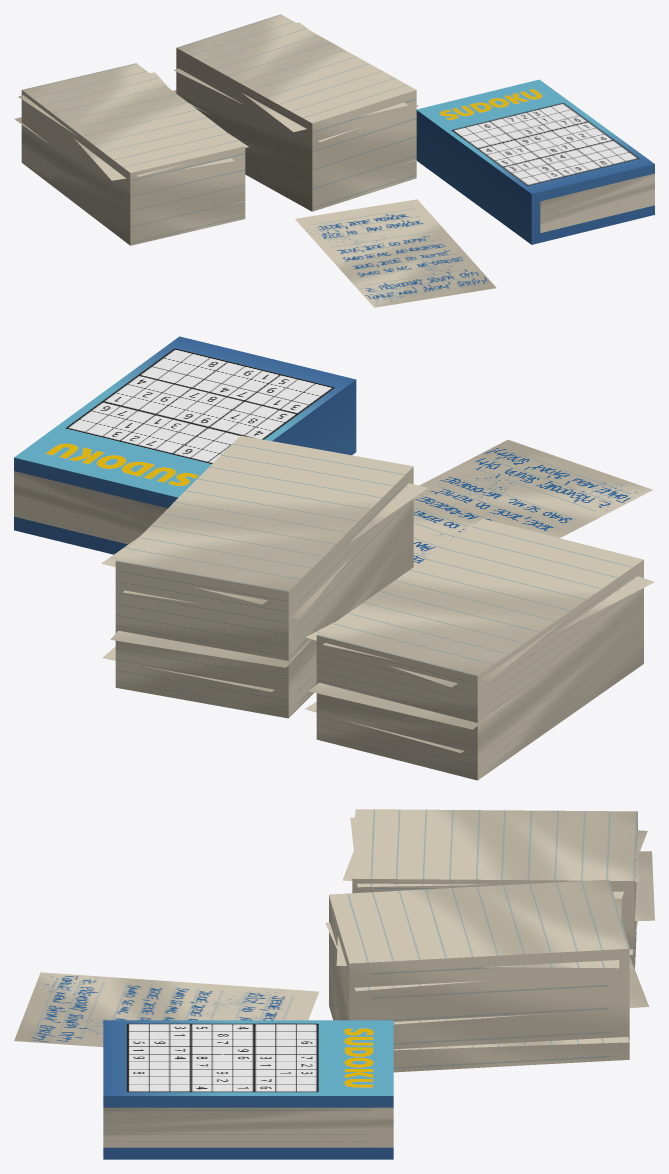
The model's file is Paper_Stack.obj.
3 views of the same model, one above another, from view 1: azimuth 30°, elevation 25°; view 2: azimuth 150°, elevation 25°; view 3: azimuth 270°, elevation 25° (orthographic). The views are drawn at different scales.
Visible parts, largest first — view 1: Cube.006; view 2: Cube.006; view 3: Cube.006.
Part boxes in pixels (x1=…): Cube.006: x1=14, y1=14, x2=654, y2=307; Cube.006: x1=14, y1=336, x2=654, y2=780; Cube.006: x1=14, y1=809, x2=654, y2=1159.
Size of the model in its own units: 1.25 by 0.2409 by 1.26.
3 materials, 3 textured.
